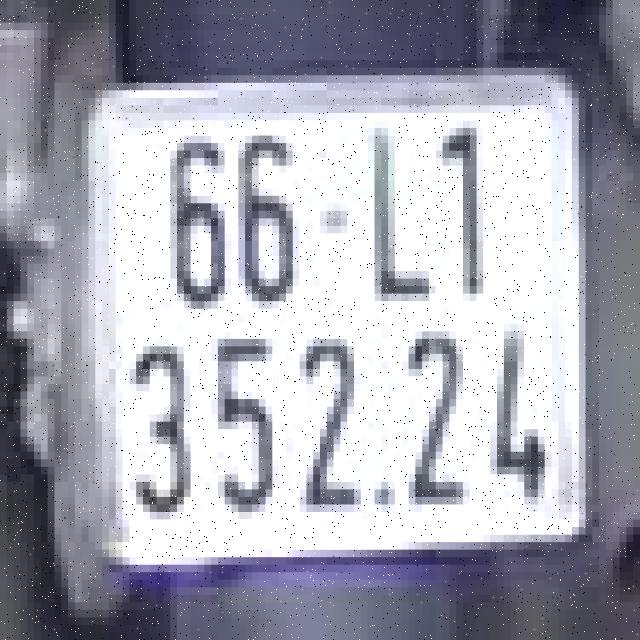1: (429, 101, 504, 312)
2: (388, 324, 477, 527), (296, 324, 364, 527)
3: (116, 342, 204, 530)
4: (480, 312, 541, 516)
5: (208, 316, 289, 535)
6: (228, 106, 317, 316), (156, 128, 232, 324)
L: (358, 105, 439, 309)
